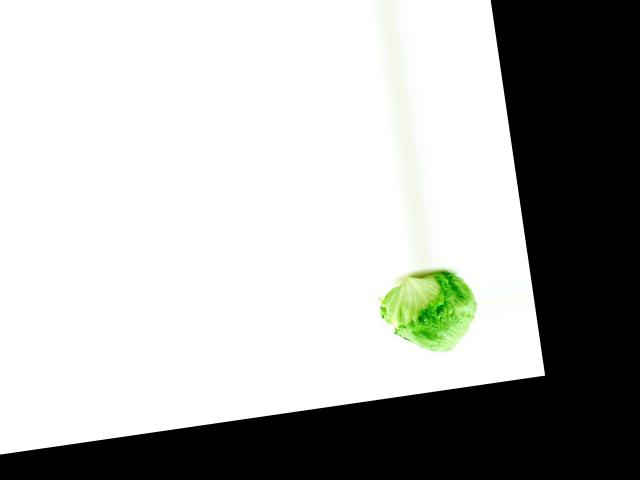lettuce: (376, 266, 486, 362)
